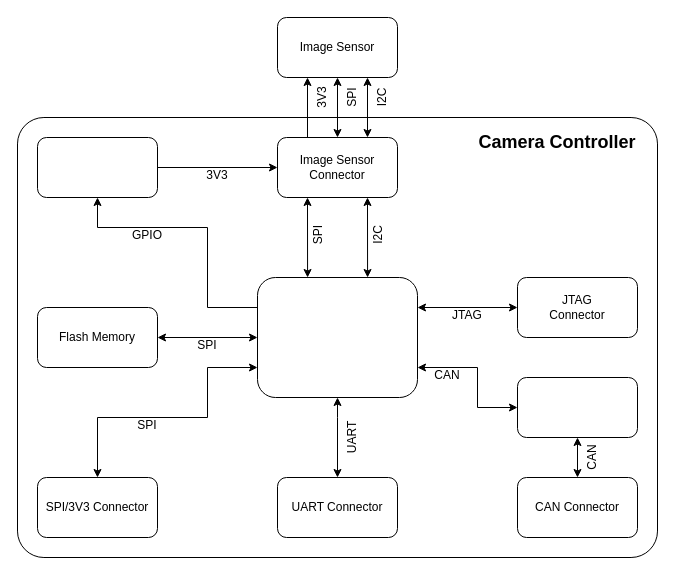
Some shapes in this 675 by 575 pixel diagram are drawn without their labels. The shapes that lost their labels are listed below. From the top down, each one's centre as x and y in pixels, then its label:
the point at 97,167: Switch
the point at 337,337: Microcontroller
the point at 577,407: CAN Transceiver
